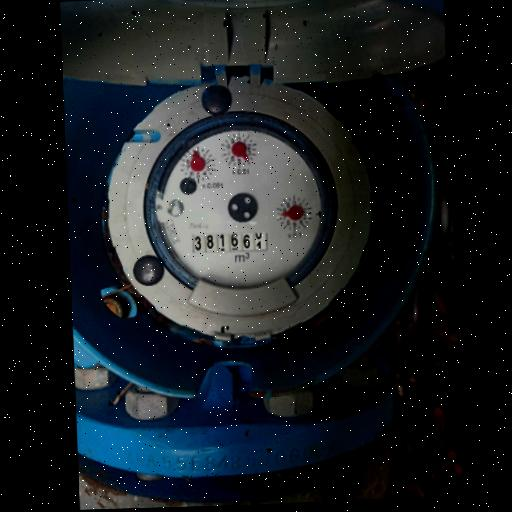0: (255, 233, 266, 250)
1: (218, 234, 229, 252)
3: (193, 235, 206, 252)
6: (242, 233, 255, 250), (230, 233, 241, 250)
8: (206, 234, 217, 252)
border_water_meter_number: (192, 230, 269, 253)
